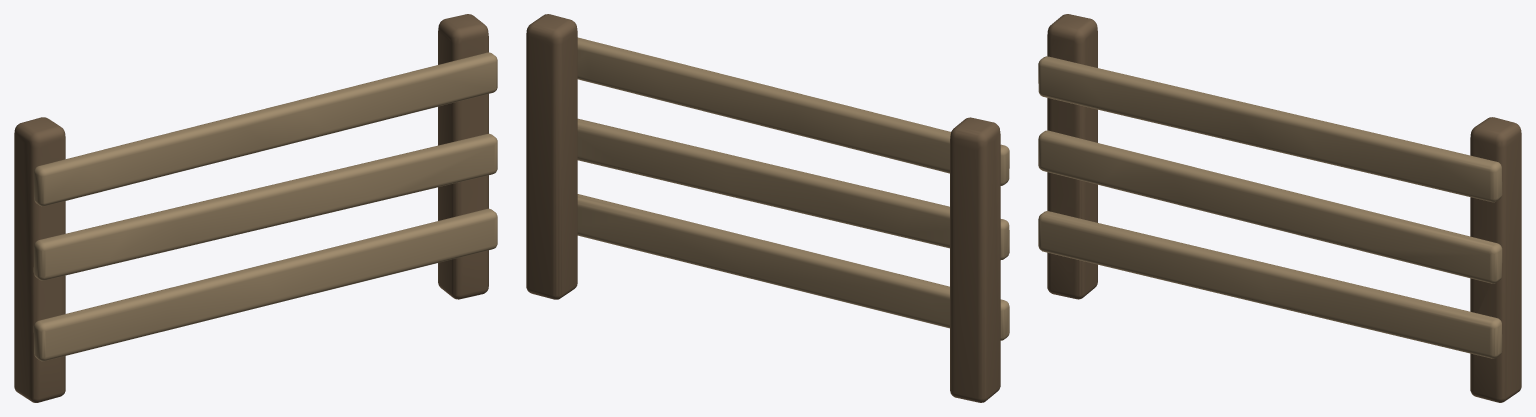
3 renders of one model, left to right at view 1: azimuth 30°, elevation 25°; view 2: azimuth 150°, elevation 25°; view 3: azimuth 330°, elevation 25°, orthographic.
Visible parts, largest first — view 1: wooden_fence_section_rails, wooden_fence_section_posts; view 2: wooden_fence_section_rails, wooden_fence_section_posts; view 3: wooden_fence_section_rails, wooden_fence_section_posts.
Part boxes in pixels (left/top/right/bottom): wooden_fence_section_rails: left=33, top=52, right=497, bottom=361; wooden_fence_section_posts: left=14, top=14, right=488, bottom=402; wooden_fence_section_rails: left=577, top=37, right=1009, bottom=340; wooden_fence_section_posts: left=526, top=14, right=1000, bottom=402; wooden_fence_section_rails: left=1038, top=56, right=1502, bottom=358; wooden_fence_section_posts: left=1047, top=14, right=1521, bottom=402.
Bounding box in the file's own units: 2.04 × 1.15 × 0.226.
Materials: 1 (1 with a texture image).
